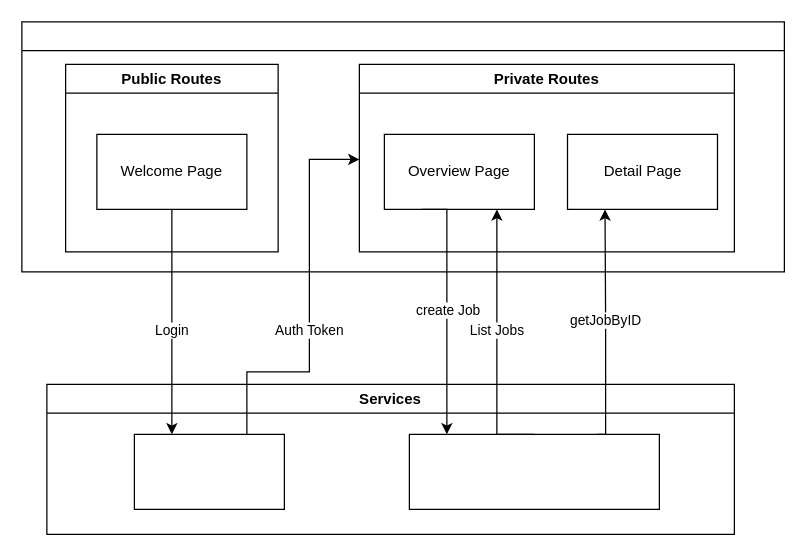
This 806x556 diagram has some shape labels left out. Each missing label, with the centre of its shape:
"IRS API" belongs at [533,471].
"IRS-DV" belongs at [402,146].
"KeyCloak" belongs at [208,471].
